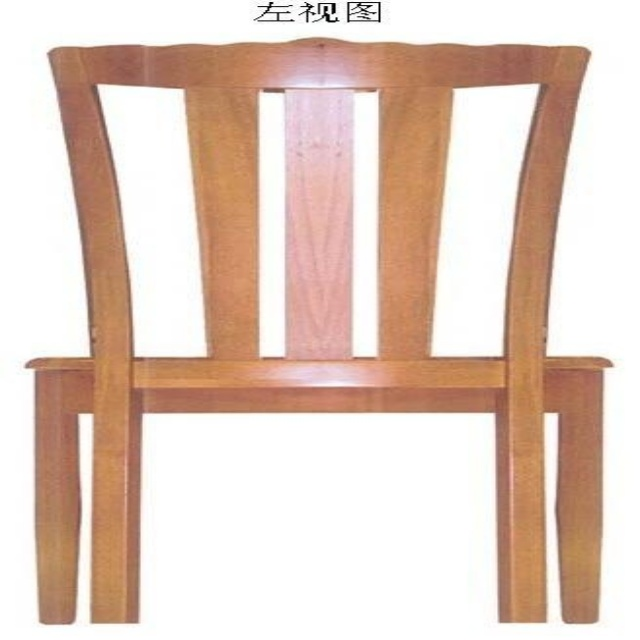obstacle: (29, 38, 607, 623)
